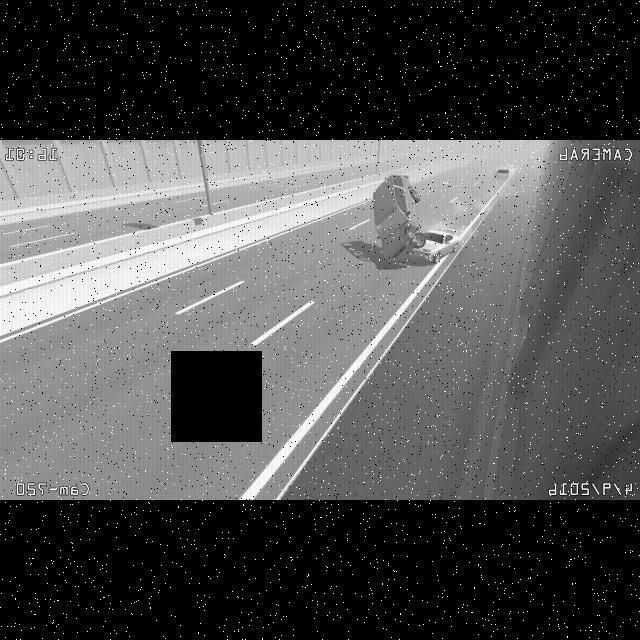accident: (370, 171, 461, 266)
vehicle: (492, 164, 511, 186)
